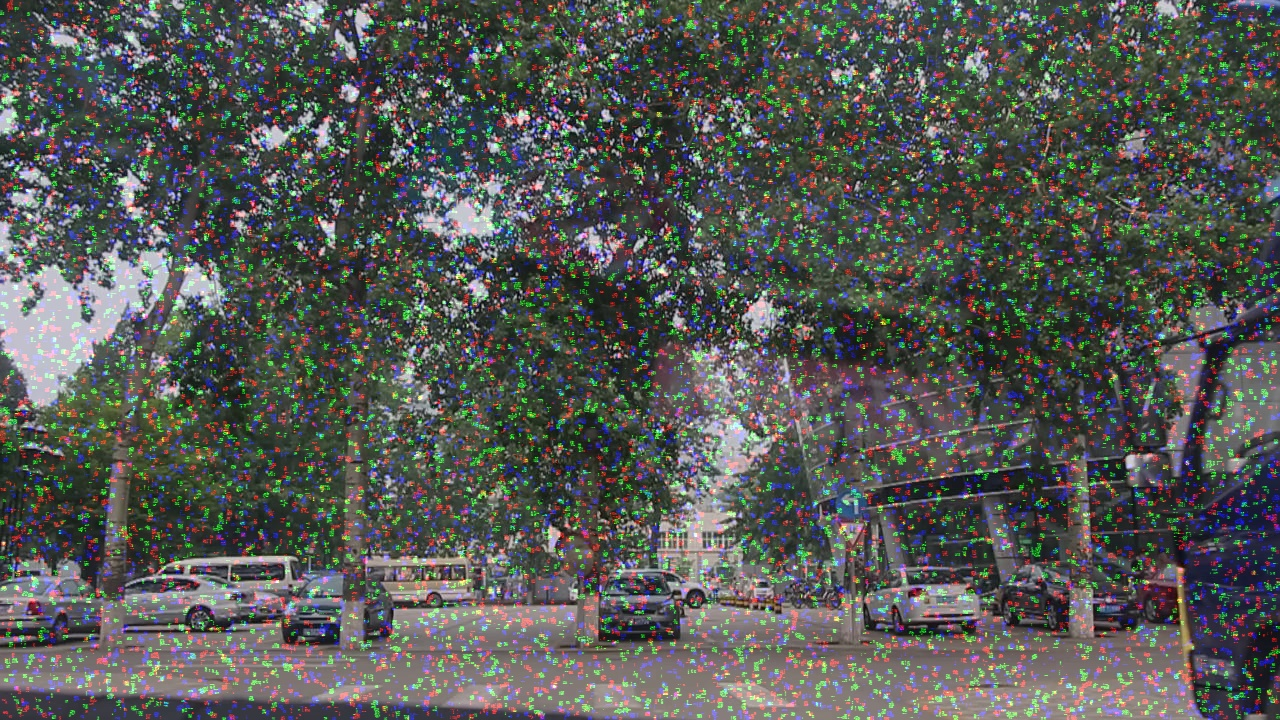Informative Signs: (834, 486, 868, 519)
Prohibitory Signs: (835, 520, 869, 550)
